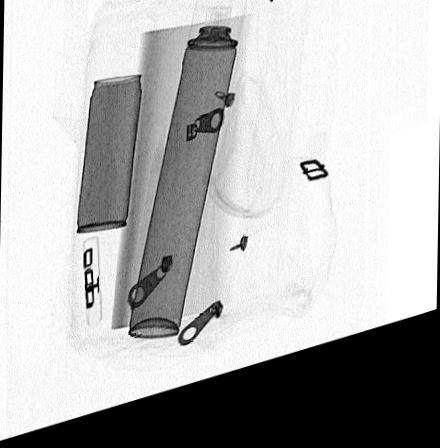Sprayer: (126, 0, 245, 348)
